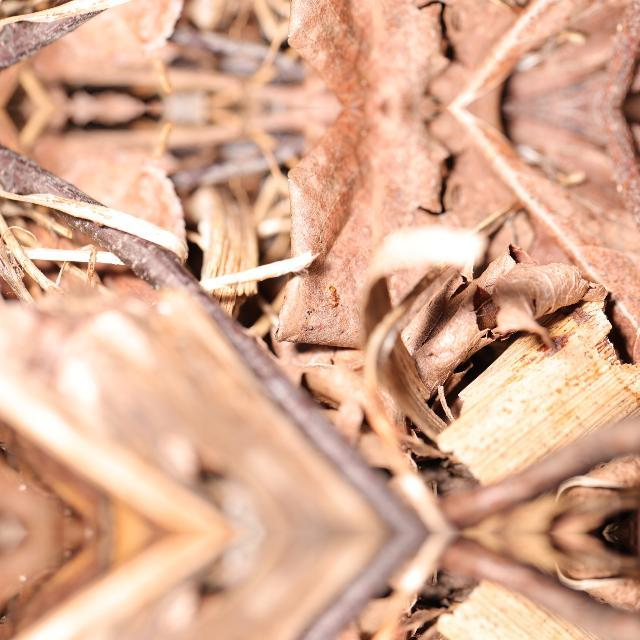Temnothorax: (327, 281, 339, 311)
